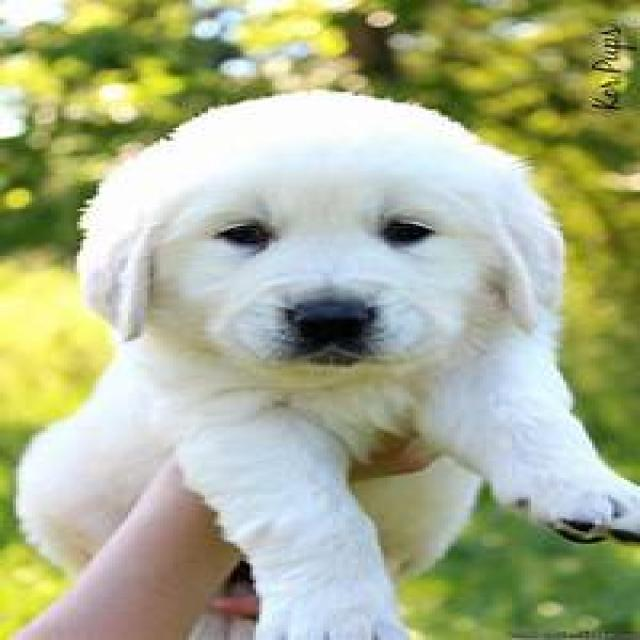dog: (16, 92, 640, 640)
